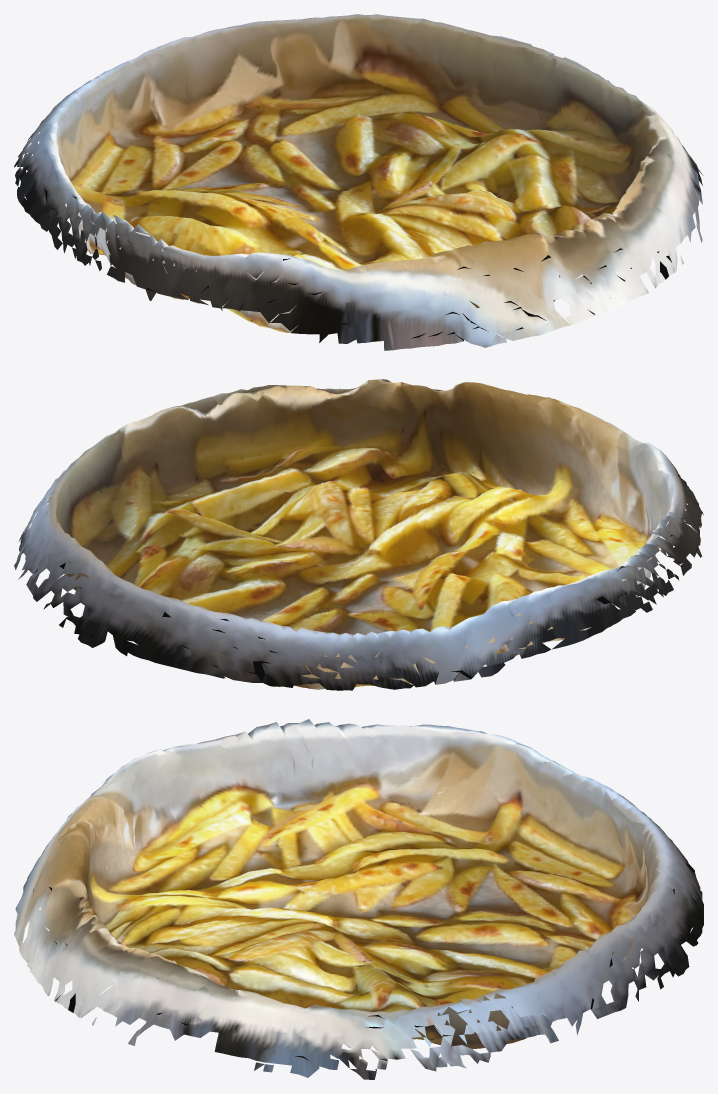
Rendered from patates_kizartmasi.glb.
The picture shows the model from 3 angles, top to bottom: view 1: azimuth 30°, elevation 25°; view 2: azimuth 150°, elevation 25°; view 3: azimuth 270°, elevation 25°; orthographic projection.
Parts seen in each view (by area): view 1: Object_2; view 2: Object_2; view 3: Object_2.
Part boxes in pixels (<box>): Object_2: <box>14,14,703,350</box>; Object_2: <box>14,379,703,690</box>; Object_2: <box>14,719,703,1079</box>.
Size of the model in its own units: 0.384 by 0.0582 by 0.3826.
1 material, 1 textured.
